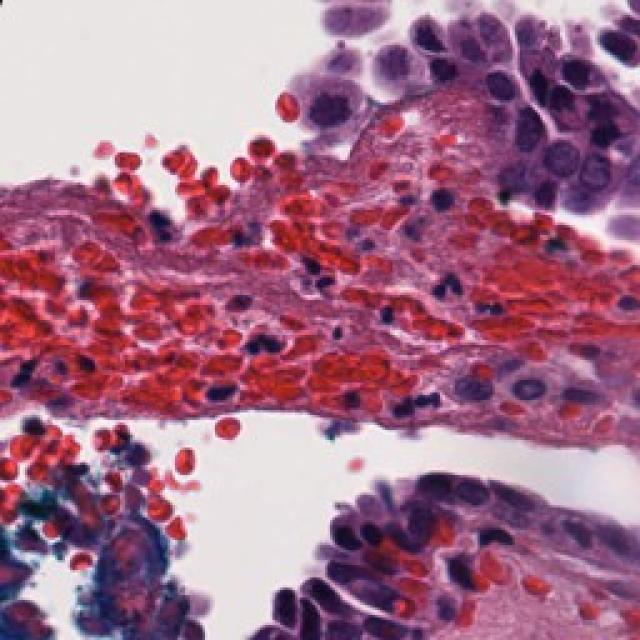abnormal: (276, 66, 377, 147), (539, 30, 613, 109), (470, 56, 531, 112), (317, 508, 366, 577), (408, 464, 476, 512), (545, 125, 585, 204), (501, 102, 550, 162), (371, 38, 416, 97), (260, 575, 304, 633)
